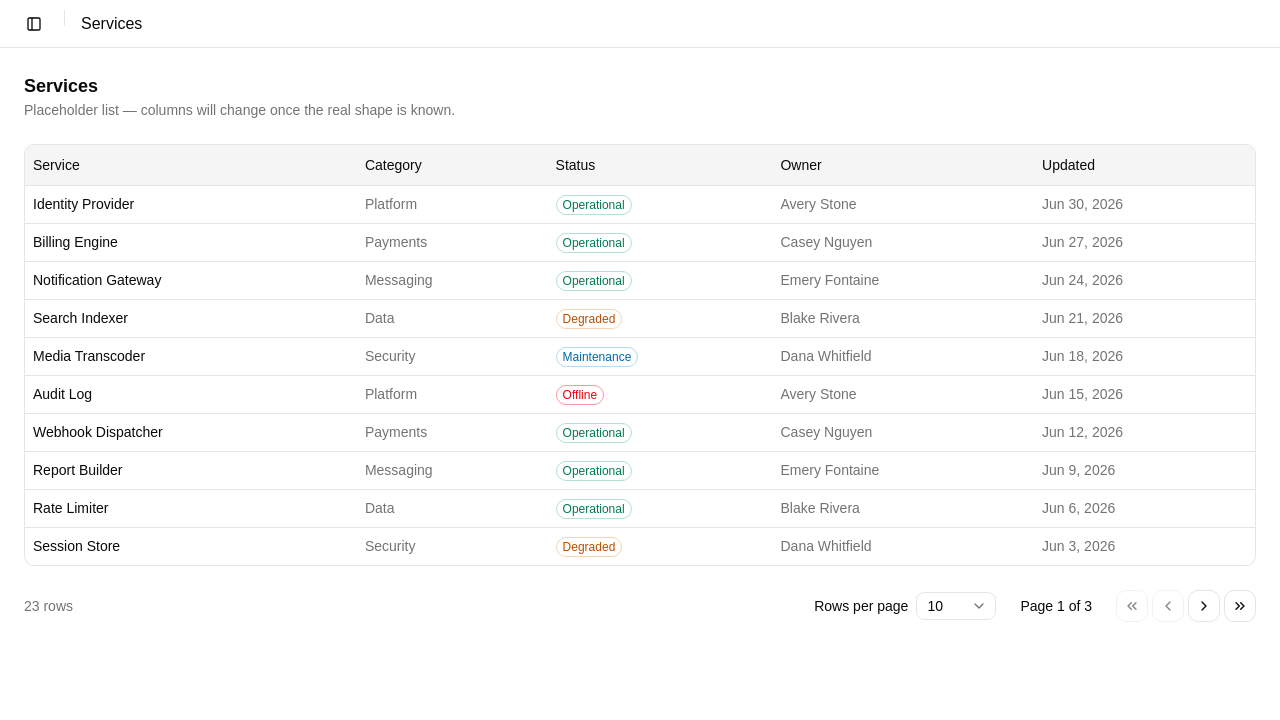
it: Services list page › pages forward without unmounting the table
The width and height of the screenshot is (1280, 720).
Check: the cell "Identity Provider" is shown, box [25,185,357,223]
Check: the text "Page 1 of 3" is shown, box [1020,596,1092,616]
Step 1. Click the 4th button named "next page" → {"x": 1204, "y": 606}, box [1188,590,1220,622]
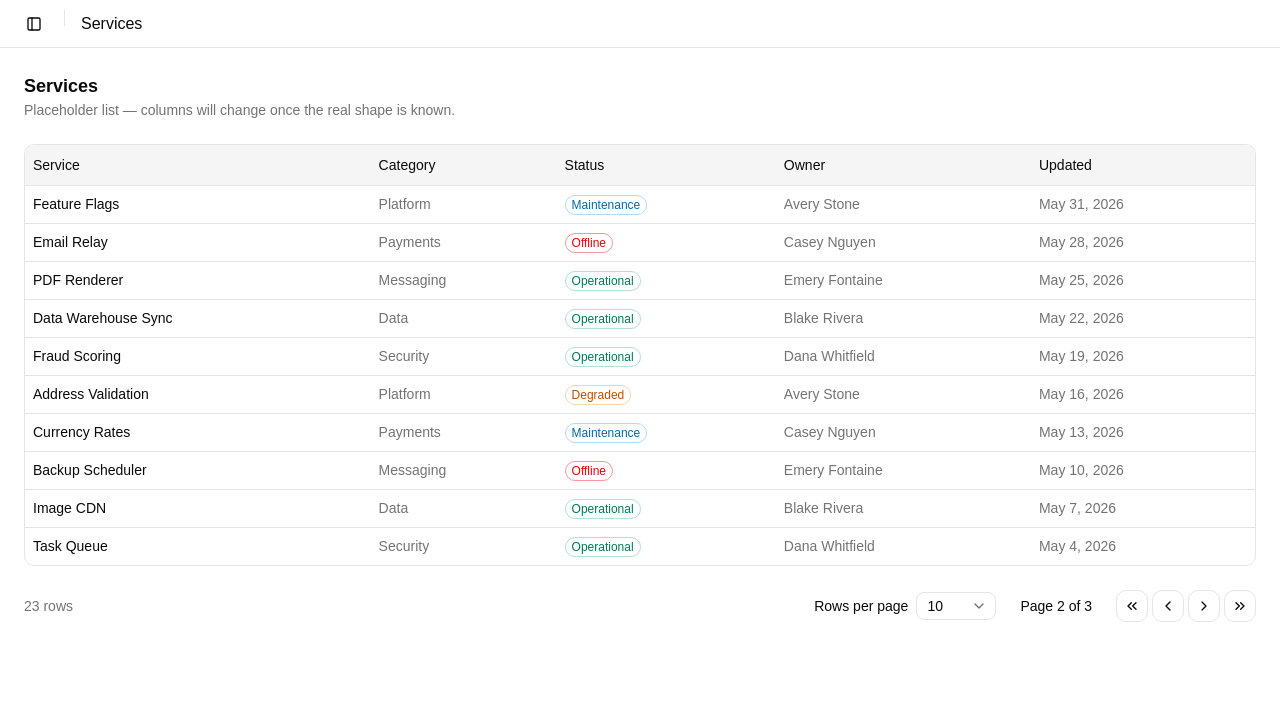
Check: the table is shown, box [25,145,1255,564]
Check: the text "Page 2 of 3" is shown, box [1020,596,1092,616]
Check: the cell "Identity Provider" is gone
